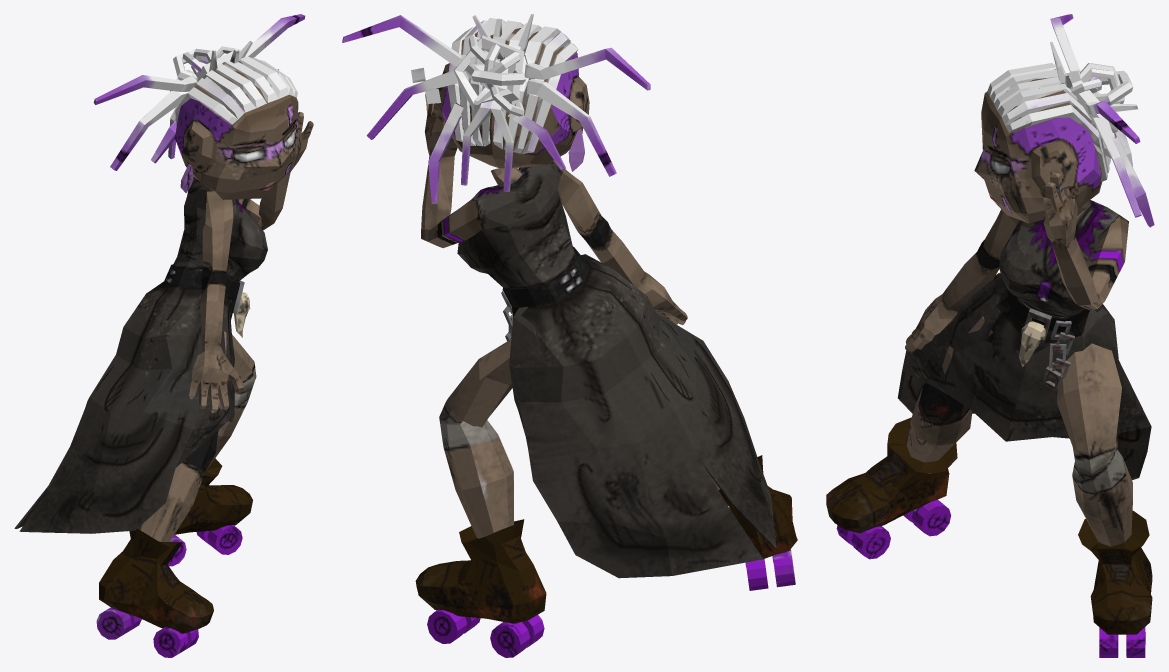
Rendered from bruja_000059.obj.
3 views of the same model, side by side, from view 1: azimuth 30°, elevation 25°; view 2: azimuth 150°, elevation 25°; view 3: azimuth 270°, elevation 25° (orthographic). The views are drawn at different scales.
Parts seen in each view (by area): view 1: Bruja_Plane.001; view 2: Bruja_Plane.001; view 3: Bruja_Plane.001.
Boxes of the visible parts, box(x1,y1,x2,y2) form: Bruja_Plane.001: box(14, 14, 313, 657); Bruja_Plane.001: box(342, 14, 797, 657); Bruja_Plane.001: box(826, 14, 1154, 657).
Bounding box in the file's own units: 10.14 × 15.42 × 7.72.
